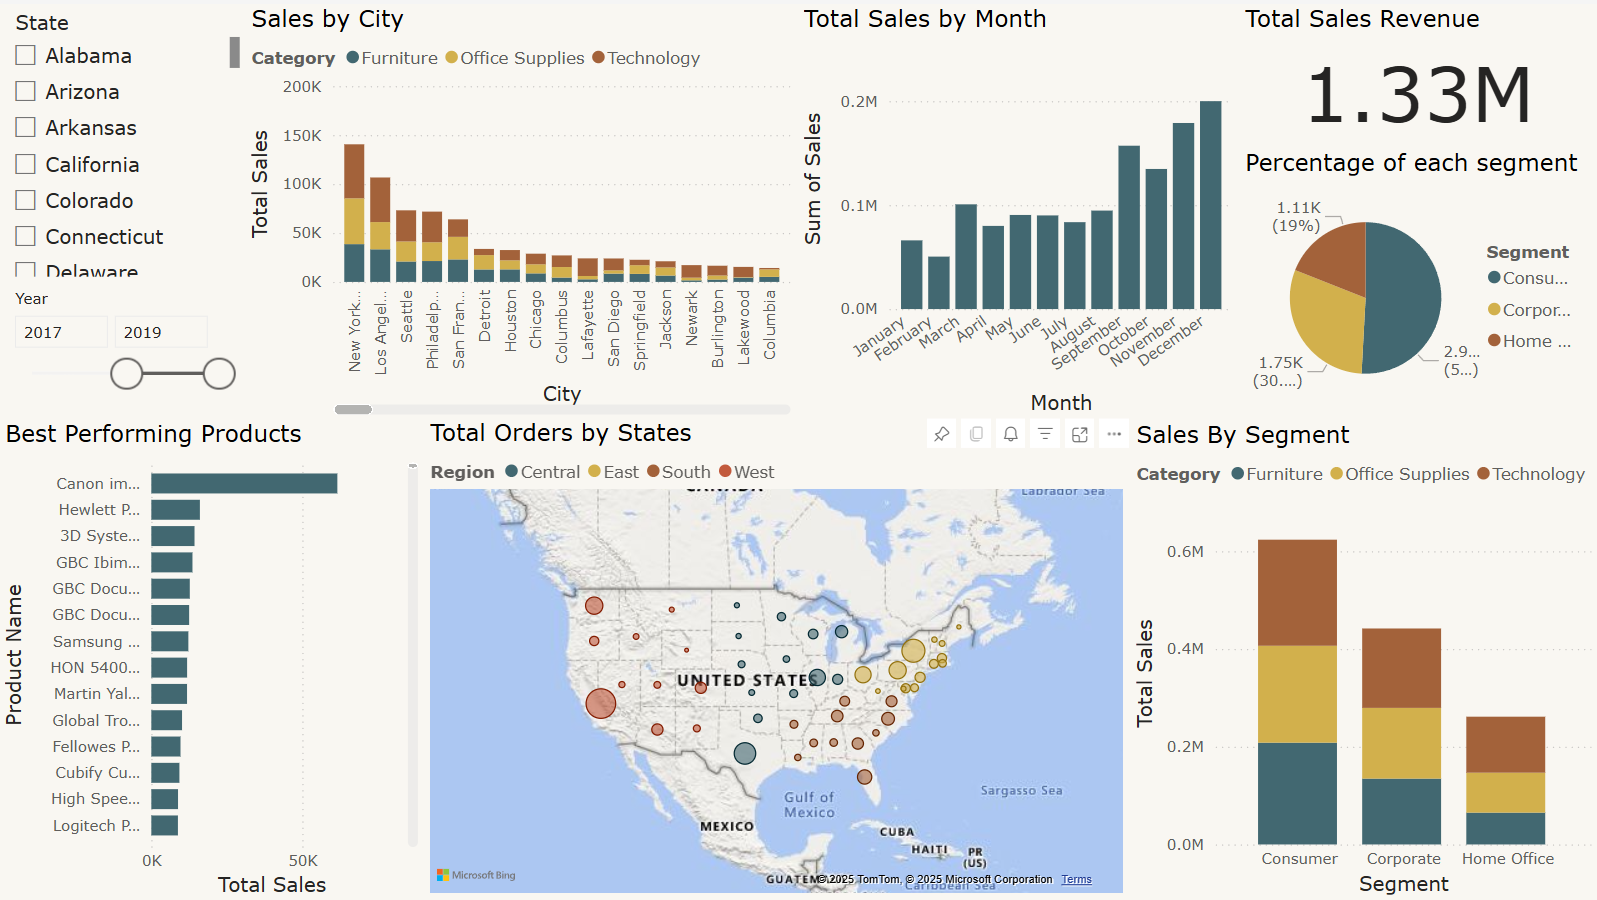

The page's visual inventory and layout, read from the dashboard file:
{"tool":"powerbi","page":{"name":"Page 1","canvas":[1280,720],"ordinal":0},"visuals":[{"type":"lineStackedColumnComboChart","title":"Sales by City","fields":{"Category":["train.City"],"Y":["Sum(train.Sales)"],"Series":["train.Category"]},"box":[197.7,0,441.9,333.7],"z":0},{"type":"pieChart","title":"Percentage of each segment ","fields":{"Category":["train.Segment"],"Y":["CountNonNull(train.Segment)"]},"box":[993,115.1,287.2,218.6],"z":1000},{"type":"clusteredBarChart","title":"Best Performing Products","fields":{"Y":["Sum(train.Sales)"],"Category":["train.Product Name"]},"box":[0,332.6,340.7,387.2],"z":2000},{"type":"lineStackedColumnComboChart","title":"Sales By Segment","fields":{"Category":["train.Segment"],"Y":["Sum(train.Sales)"],"Series":["train.Category"]},"box":[905.8,333.7,374.4,384.9],"z":3000},{"type":"clusteredColumnChart","title":"Total Sales by Month","fields":{"Category":["train.Ship Date.Variation.Date Hierarchy.Month"],"Y":["Sum(train.Sales)"]},"box":[639.5,0,353.5,333.7],"z":4000},{"type":"map","title":"Total Orders by States","fields":{"Size":["CountNonNull(train.Order ID)"],"Series":["train.Region"],"Category":["train.State"]},"box":[340.7,331.4,565.1,386],"z":5000},{"type":"slicer","fields":{"Values":["train.State"]},"box":[0,0,197.7,223.3],"z":6000},{"type":"card","title":"Total Sales Revenue","fields":{"Values":["Sum(train.Sales)"]},"box":[993,0,287.2,115.1],"z":6001},{"type":"slicer","fields":{"Values":["train.Ship Date.Variation.Date Hierarchy.Year"]},"box":[0,223.3,197.7,107],"z":6002}]}

Visuals, with their boxes in screenshot pixels (x1, y1, x2, y2), scaled from the page's 1280x720 canvas onto the 1597x900 screenshot:
"Sales by City" lineStackedColumnComboChart: [247, 0, 798, 417]
"Percentage of each segment " pieChart: [1239, 144, 1596, 417]
"Best Performing Products" clusteredBarChart: [0, 416, 425, 899]
"Sales By Segment" lineStackedColumnComboChart: [1130, 417, 1596, 898]
"Total Sales by Month" clusteredColumnChart: [798, 0, 1239, 417]
"Total Orders by States" map: [425, 414, 1130, 897]
slicer - train.State: [0, 0, 247, 279]
"Total Sales Revenue" card: [1239, 0, 1596, 144]
slicer - train.Ship Date.Variation.Date Hierarchy.Year: [0, 279, 247, 413]
